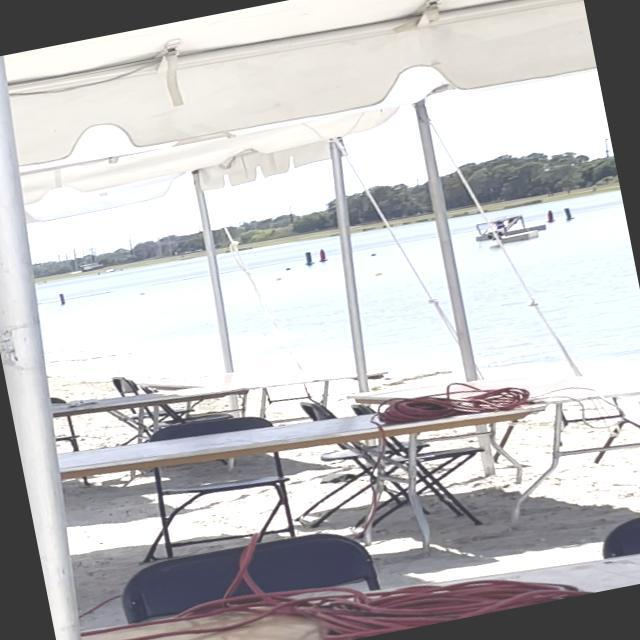buoy: (373, 270, 382, 277), (368, 251, 378, 257), (285, 266, 294, 272), (274, 276, 282, 280)
